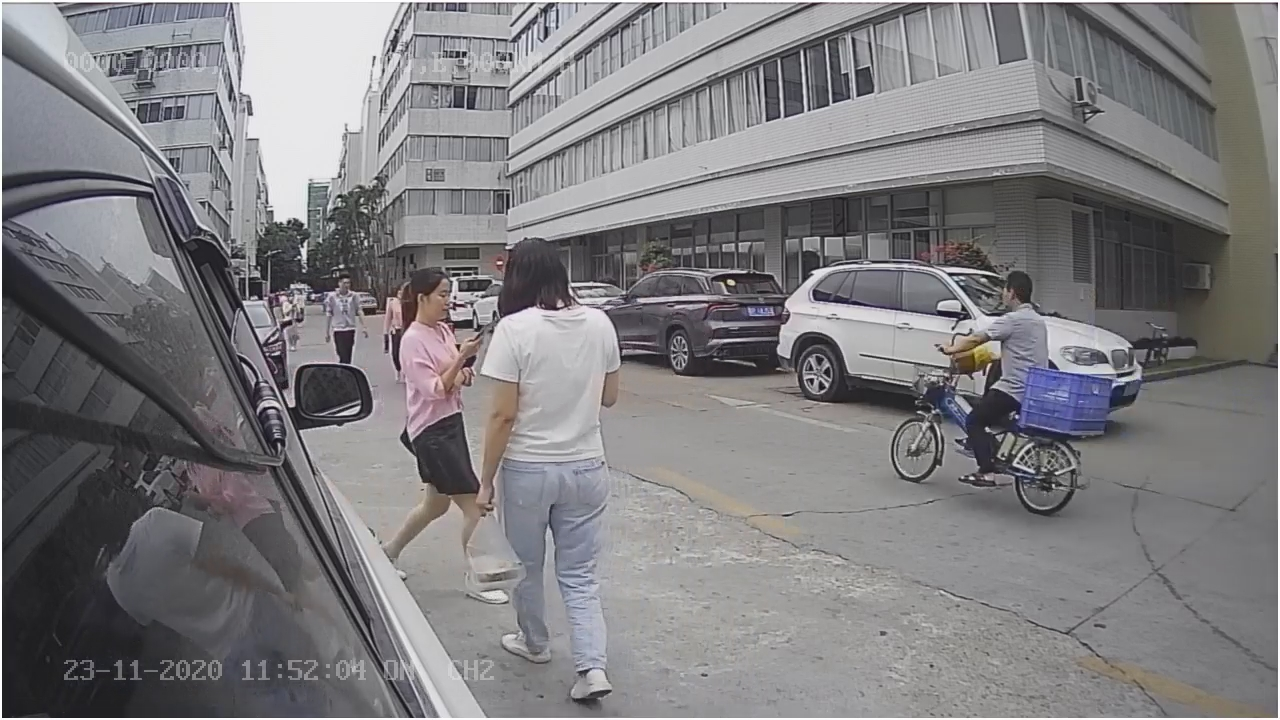person: (470, 236, 644, 699), (932, 263, 1046, 370)
